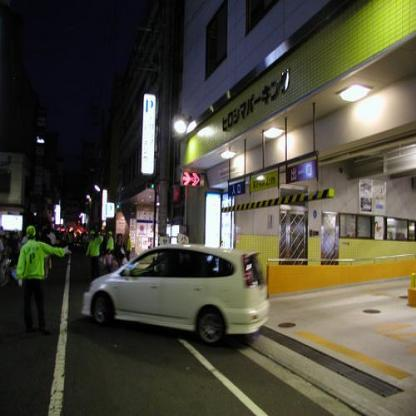car: (76, 240, 273, 349)
person: (14, 219, 64, 336)
